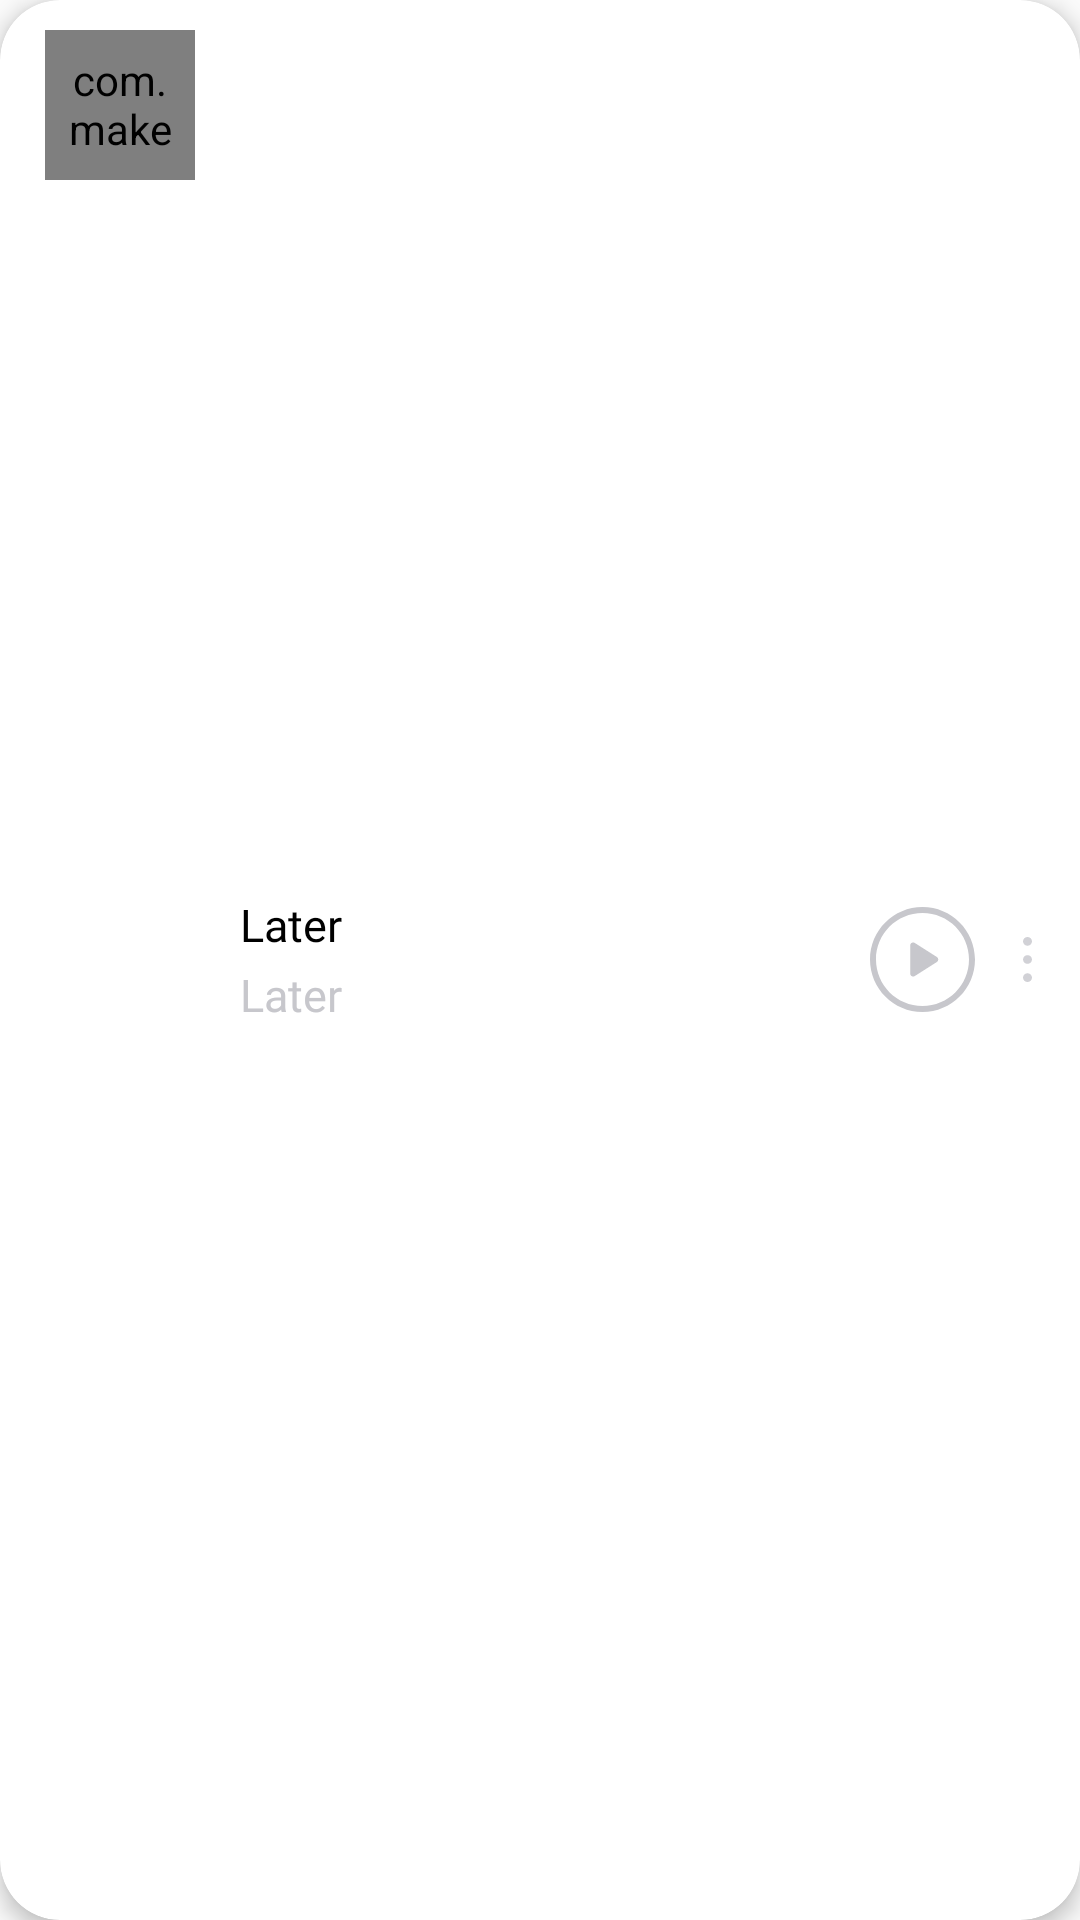

Icons on this 1080 x 1920 Android screen, each with its box as box=[x1, y1, x2, y2]:
3dots: box=[1023, 937, 1032, 982]
play: box=[870, 907, 975, 1012]
